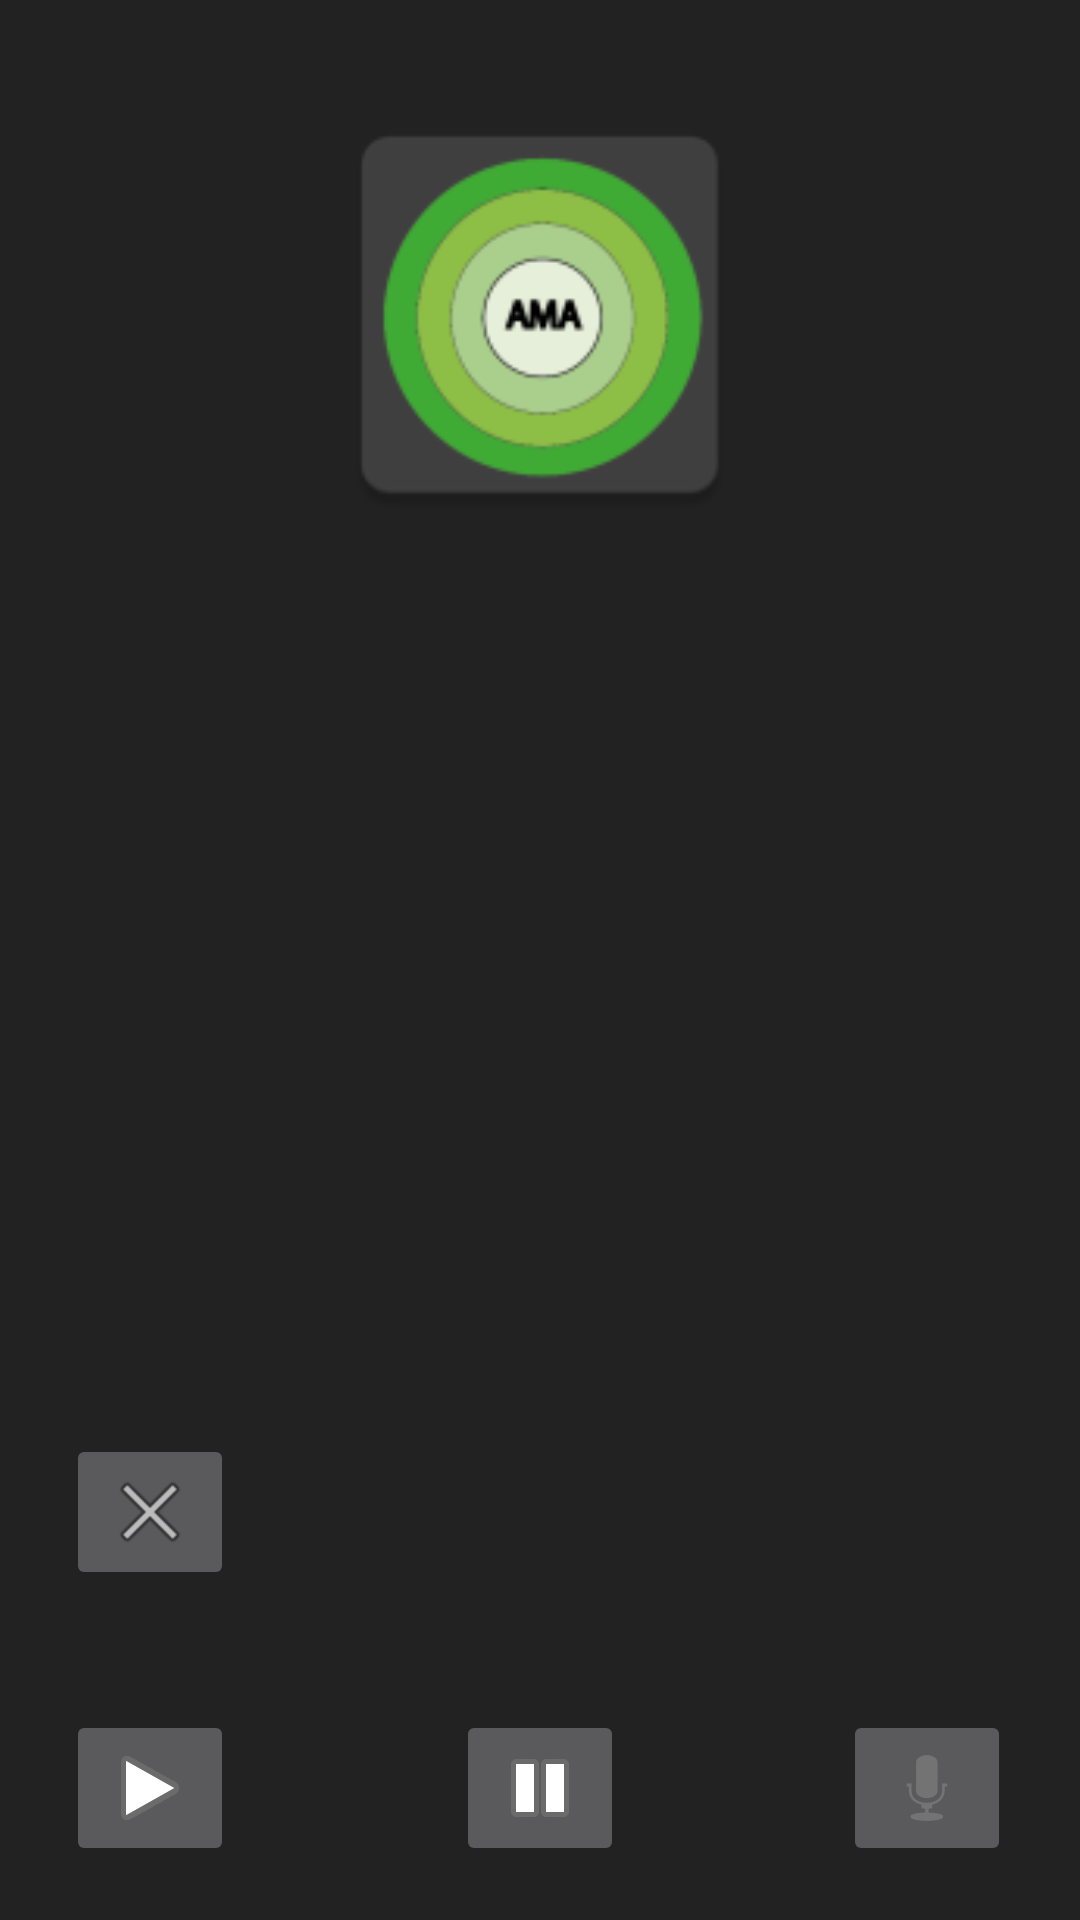

Icons on this 1080×1920 Android screen, each with its box as (x1, y1, x2, y2):
close clear cancel: (78, 1452, 222, 1572)
pause: (468, 1728, 612, 1848)
play: (78, 1728, 222, 1848)
speak now: (855, 1728, 999, 1848)
